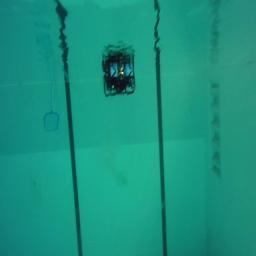front: (103, 70, 135, 98)
